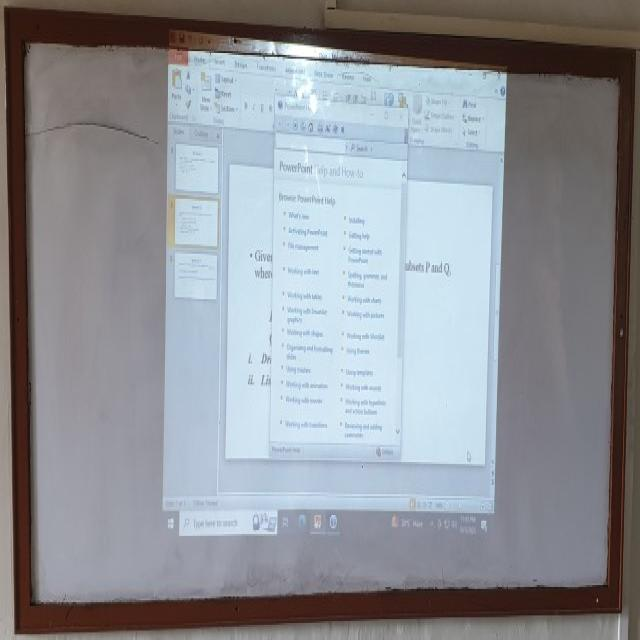Slide: (164, 29, 509, 546)
White-board: (16, 25, 631, 618)
